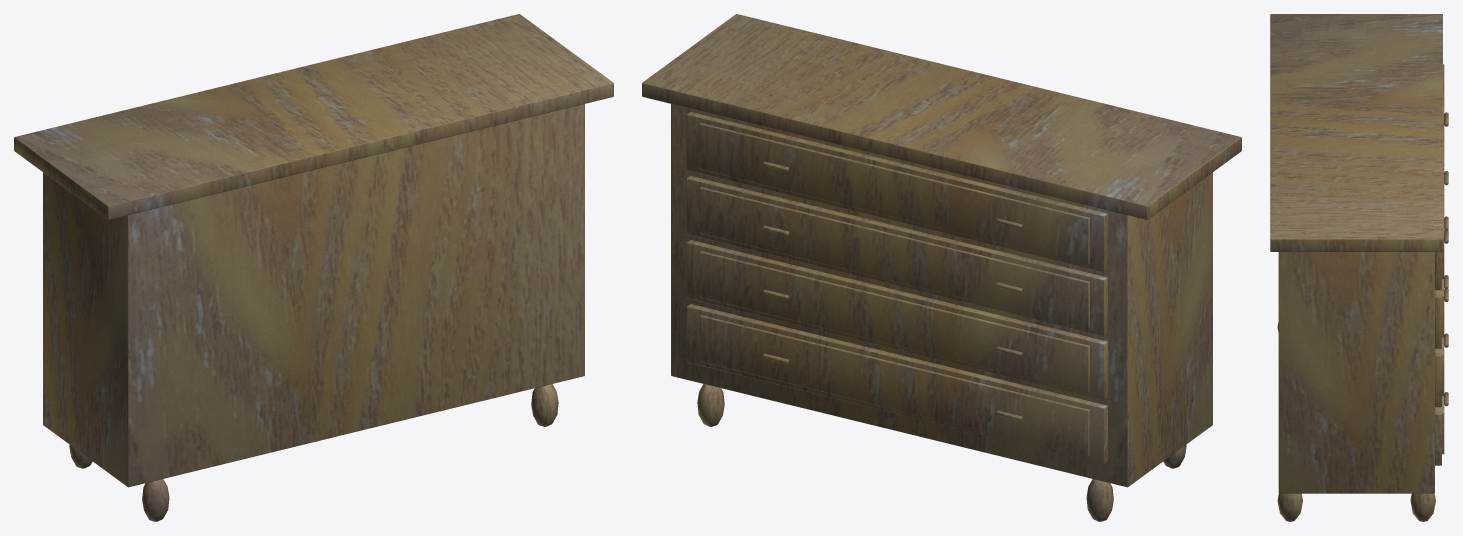
Rendered from Antique_Chest_05.fbx.
The picture shows the model from 3 angles, left to right: view 1: azimuth 30°, elevation 25°; view 2: azimuth 150°, elevation 25°; view 3: azimuth 270°, elevation 25°; orthographic projection. The views are drawn at different scales.
Visible parts, largest first — view 1: Antique_Chest; view 2: Antique_Chest; view 3: Antique_Chest.
Boxes of the visible parts, x1=… form: Antique_Chest: x1=14, y1=14, x2=613, y2=521; Antique_Chest: x1=642, y1=14, x2=1241, y2=521; Antique_Chest: x1=1270, y1=14, x2=1448, y2=521.
Size of the model in its own units: 1.83 by 1.17 by 0.6116.
Materials: 1 (1 with a texture image).
